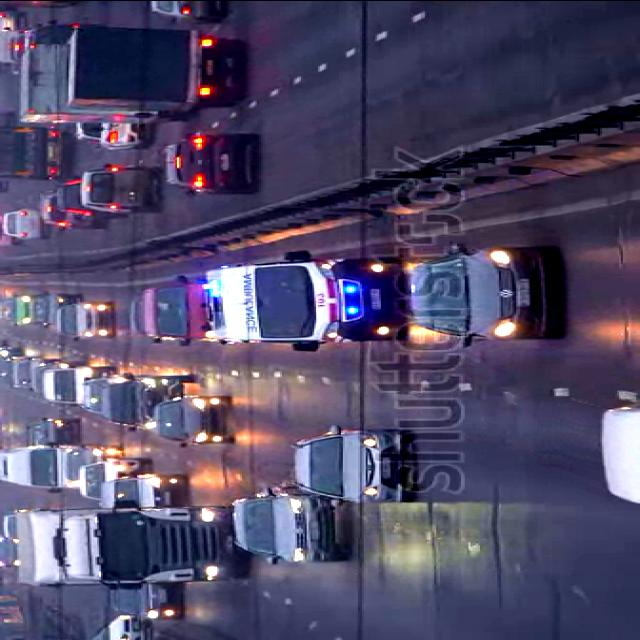ambulance: (204, 249, 416, 351)
